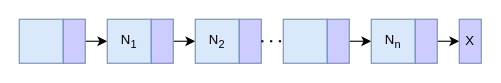
Image size: 501x83. Some labels were removed from this diagram. The shapes that lost their labels are listed below. From the top down, each one's centre as x and y in pixels, then its label:
At pixel 40 40: "N 0".
At pixel 304 40: "N (n-1)".
